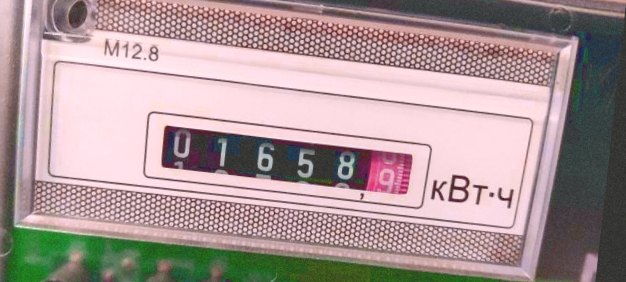0: (170, 126, 193, 158)
1: (212, 134, 232, 168)
5: (293, 145, 318, 178)
6: (254, 138, 277, 173)
8: (334, 147, 358, 181)
9: (373, 165, 397, 195)
screen: (131, 101, 438, 216)
